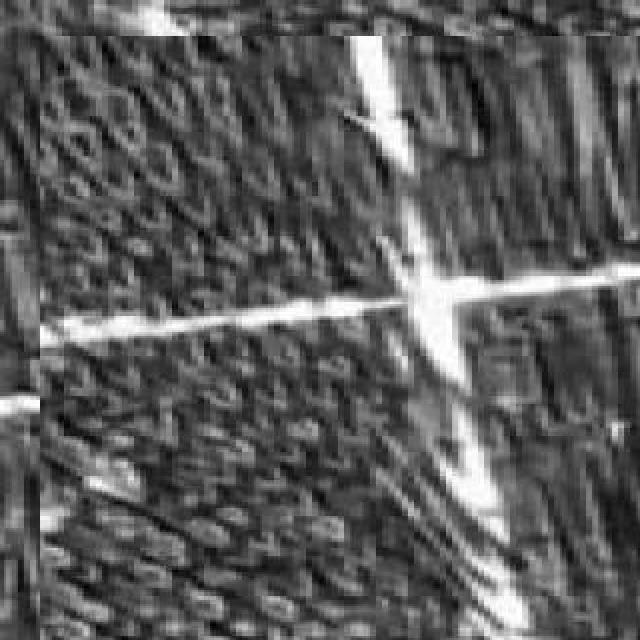Physical-damage: (40, 36, 640, 640)
